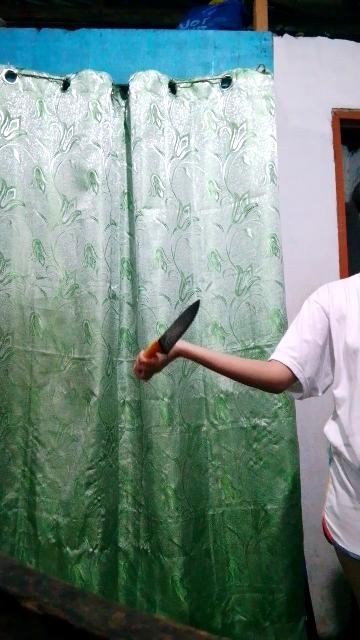long knife: (124, 290, 202, 378)
